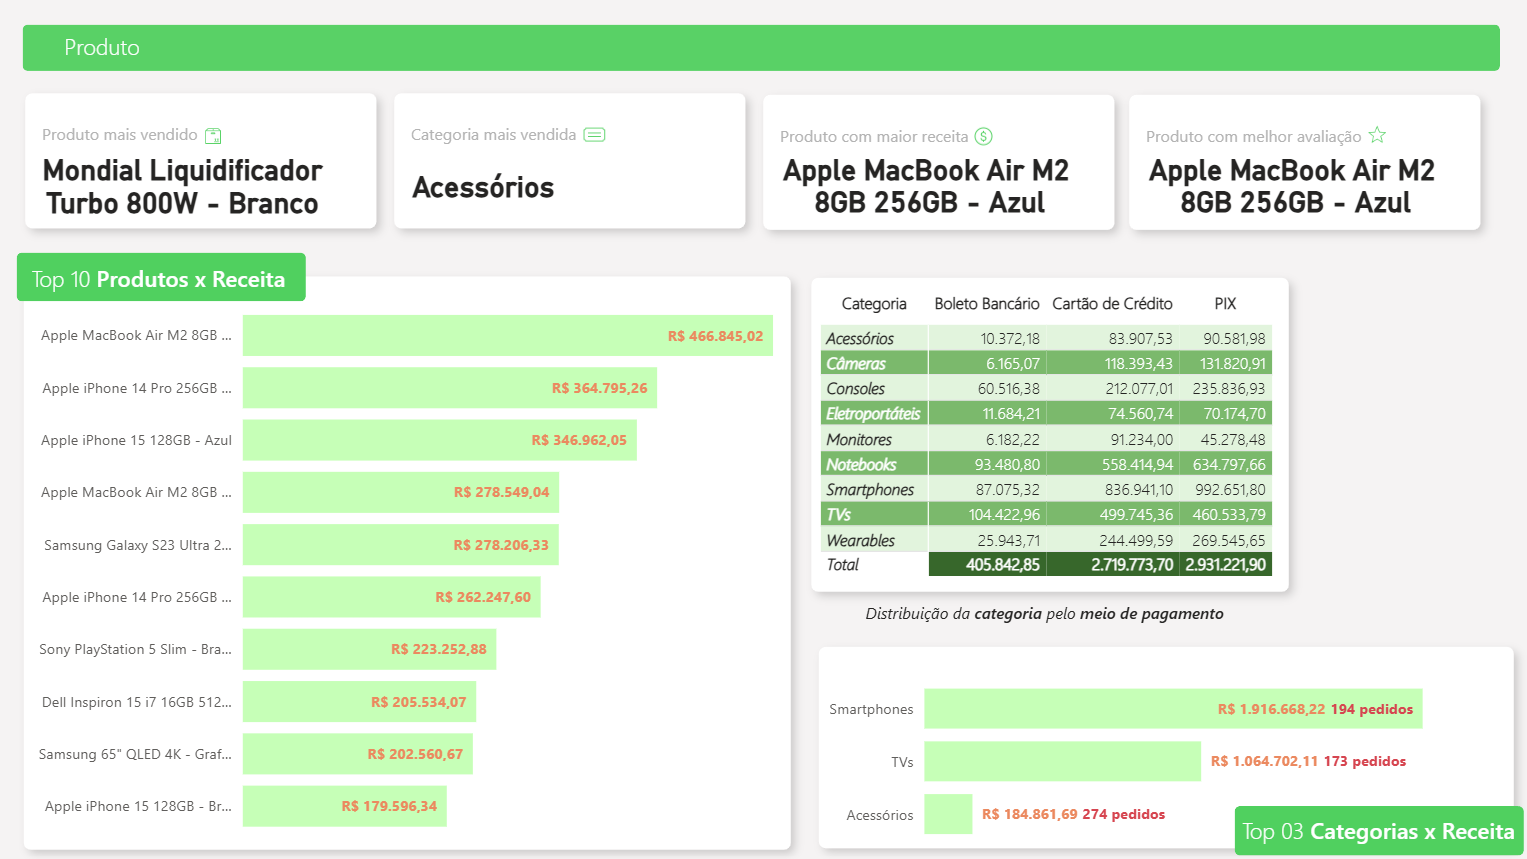

The dashboard page shown, as its layout file describes it:
{"tool":"powerbi","page":{"name":"Produto","canvas":[1280,720],"ordinal":2},"visuals":[{"type":"group","id":"g1","title":"Aba Produto","box":[20.8,21.2,1231.2,45],"z":0},{"type":"shape","box":[20.8,21.2,1231.2,38.8],"z":0,"group":"g1"},{"type":"shape","box":[11.2,66.2,317.1,137.1],"z":0,"group":"g2"},{"type":"shape","box":[319.2,66.2,317.1,137.1],"z":0,"group":"g3"},{"type":"shape","box":[626.2,66.9,317.1,137.1],"z":0,"group":"g4"},{"type":"shape","box":[930.8,67.7,317.1,137.1],"z":0,"group":"g5"},{"type":"shape","box":[10.1,218.1,663.8,502.5],"z":0,"group":"g6"},{"type":"shape","box":[666.2,220,422.5,286.2],"z":0,"group":"g7"},{"type":"shape","box":[672.1,527.2,603.8,192.5],"z":0,"group":"g8"},{"type":"textbox","box":[20.8,21.2,132.5,45],"z":1000,"group":"g1"},{"type":"group","id":"g2","title":"Card Produto Vendido","box":[11.2,66.2,317.1,137.1],"z":1000},{"type":"card","title":"Categoria","fields":{"Values":["Medidas.prodMReceita"]},"box":[633.7,106.6,286.7,93.3],"z":1000,"group":"g4"},{"type":"card","title":"Categoria","fields":{"Values":["Medidas.produtoMAvaliado"]},"box":[938.3,107.4,286.7,93.3],"z":1000,"group":"g5"},{"type":"card","title":"Produto","fields":{"Values":["Medidas.prodMVendido"]},"box":[12.4,109.1,283.3,91.7],"z":1000,"group":"g2"},{"type":"card","title":"Categoria","fields":{"Values":["Medidas.catMComprada"]},"box":[327,110.9,157.5,88.8],"z":1000,"group":"g3"},{"type":"barChart","fields":{"Category":["Produtos.NomeProduto"],"Y":["Medidas.receitaTotal"]},"box":[17.2,232.5,696.2,480],"z":1000,"group":"g6"},{"type":"pivotTable","fields":{"Columns":["Vendas.MeioPagamento"],"Values":["Medidas.receitaTotal"],"Rows":["Produtos.Categoria"]},"box":[680.9,237.7,391.2,258.8],"z":1000,"group":"g7"},{"type":"barChart","fields":{"Y":["Medidas.receitaTotal"],"Category":["Produtos.Categoria"]},"box":[682,543.2,576.2,176.2],"z":1000,"group":"g8"},{"type":"shape","box":[1030.7,672,241.2,41.3],"z":1250,"group":"g9"},{"type":"textbox","box":[1032.6,673.9,247.5,41.2],"z":1500,"group":"g9"},{"type":"group","id":"g3","title":"Card Categoria Mais Vendida","box":[319.2,66.2,317.7,136.9],"z":2000},{"type":"textbox","box":[32.1,97.1,222.5,30],"z":2000,"group":"g2"},{"type":"textbox","box":[340.1,97.1,222.5,30],"z":2000,"group":"g3"},{"type":"textbox","box":[647.1,97.8,222.5,30],"z":2000,"group":"g4"},{"type":"textbox","box":[951.7,98.6,222.5,30],"z":2000,"group":"g5"},{"type":"shape","box":[16.3,211.2,241.2,40.8],"z":2000,"group":"g6"},{"type":"textbox","box":[718.7,496.2,318.8,33.8],"z":2000,"group":"g7"},{"type":"group","id":"g4","title":"Card Produto Receita","box":[626.2,66.9,316.9,136.9],"z":3000},{"type":"image","box":[1137.5,97.5,25,30],"z":3000,"group":"g5"},{"type":"image","box":[803.4,98,36.2,31.2],"z":3000,"group":"g4"},{"type":"image","box":[477.9,99.2,40.7,28.6],"z":3000,"group":"g3"},{"type":"image","box":[164.2,100.6,32.1,25.9],"z":3000,"group":"g2"},{"type":"textbox","box":[23.3,214.7,233.3,42],"z":3000,"group":"g6"},{"type":"group","id":"g5","title":"Card Produto Mais Aceito","box":[930.8,67.7,317.1,137.1],"z":5000},{"type":"group","id":"g6","title":"Card Produto x Receita","box":[10.1,211.2,703.4,509.4],"z":6000},{"type":"group","id":"g7","title":"Matriz","box":[666.2,220,422.5,310],"z":7000},{"type":"group","id":"g8","title":"Card Top 3 Categorias mais vendidas","box":[672.1,527.2,607.4,192.5],"z":8000},{"type":"group","id":"g9","title":"Grupo 1","box":[1030.7,672,248.8,42.5],"z":8001,"group":"g8"}]}

Visuals, with their boxes in screenshot pixels (x1, y1, x2, y2), scaled from the page's 1280x720 canvas onto the 1527x859 screenshot:
"Aba Produto" group: [x1=25, y1=25, x2=1494, y2=79]
shape: [x1=25, y1=25, x2=1494, y2=72]
shape: [x1=13, y1=79, x2=392, y2=243]
shape: [x1=381, y1=79, x2=759, y2=243]
shape: [x1=747, y1=80, x2=1125, y2=243]
shape: [x1=1110, y1=81, x2=1489, y2=244]
shape: [x1=12, y1=260, x2=804, y2=858]
shape: [x1=795, y1=262, x2=1299, y2=604]
shape: [x1=802, y1=629, x2=1522, y2=858]
textbox: [x1=25, y1=25, x2=183, y2=79]
"Card Produto Vendido" group: [x1=13, y1=79, x2=392, y2=243]
"Categoria" card: [x1=756, y1=127, x2=1098, y2=238]
"Categoria" card: [x1=1119, y1=128, x2=1461, y2=239]
"Produto" card: [x1=15, y1=130, x2=353, y2=240]
"Categoria" card: [x1=390, y1=132, x2=578, y2=238]
barChart - Produtos.NomeProduto x Medidas.receitaTotal: [x1=21, y1=277, x2=851, y2=850]
pivotTable - Vendas.MeioPagamento x Medidas.receitaTotal: [x1=812, y1=284, x2=1279, y2=592]
barChart - Medidas.receitaTotal x Produtos.Categoria: [x1=814, y1=648, x2=1501, y2=858]
shape: [x1=1230, y1=802, x2=1517, y2=851]
textbox: [x1=1232, y1=804, x2=1526, y2=853]
"Card Categoria Mais Vendida" group: [x1=381, y1=79, x2=760, y2=242]
textbox: [x1=38, y1=116, x2=304, y2=152]
textbox: [x1=406, y1=116, x2=671, y2=152]
textbox: [x1=772, y1=117, x2=1037, y2=152]
textbox: [x1=1135, y1=118, x2=1401, y2=153]
shape: [x1=19, y1=252, x2=307, y2=301]
textbox: [x1=857, y1=592, x2=1238, y2=632]
"Card Produto Receita" group: [x1=747, y1=80, x2=1125, y2=243]
image: [x1=1357, y1=116, x2=1387, y2=152]
image: [x1=958, y1=117, x2=1002, y2=154]
image: [x1=570, y1=118, x2=619, y2=152]
image: [x1=196, y1=120, x2=234, y2=151]
textbox: [x1=28, y1=256, x2=306, y2=306]
"Card Produto Mais Aceito" group: [x1=1110, y1=81, x2=1489, y2=244]
"Card Produto x Receita" group: [x1=12, y1=252, x2=851, y2=858]
"Matriz" group: [x1=795, y1=262, x2=1299, y2=632]
"Card Top 3 Categorias mais vendidas" group: [x1=802, y1=629, x2=1526, y2=858]
"Grupo 1" group: [x1=1230, y1=802, x2=1526, y2=852]
